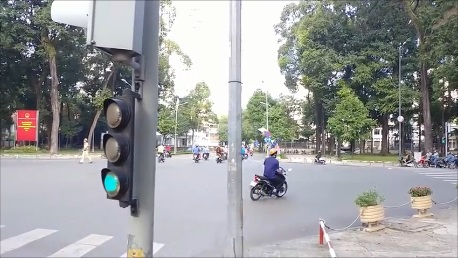police: (77, 135, 96, 167)
